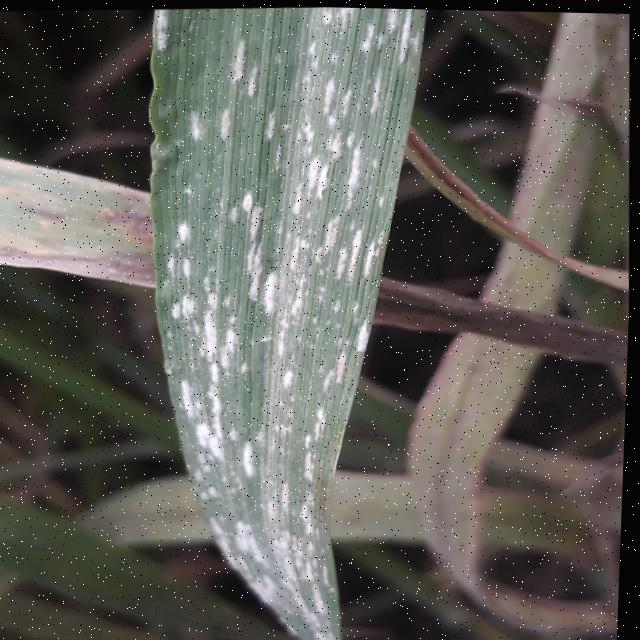powder_mildew: (122, 2, 459, 640), (469, 8, 640, 336), (390, 343, 555, 640), (0, 149, 148, 300)
